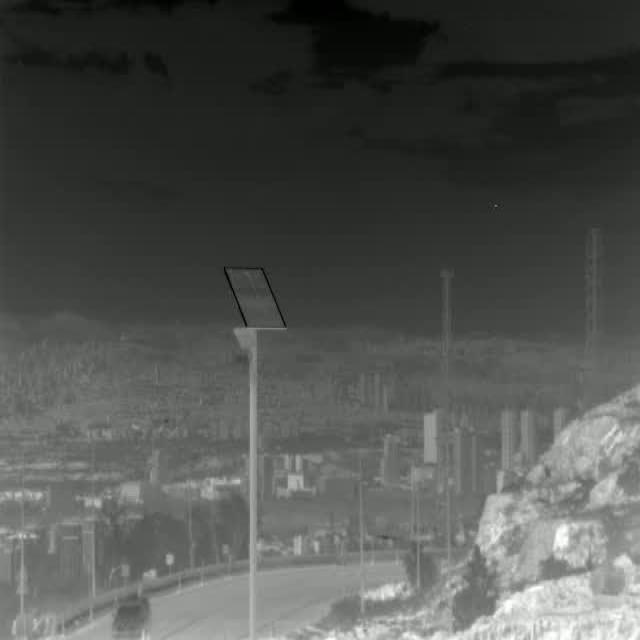Car: (112, 597, 150, 640)
